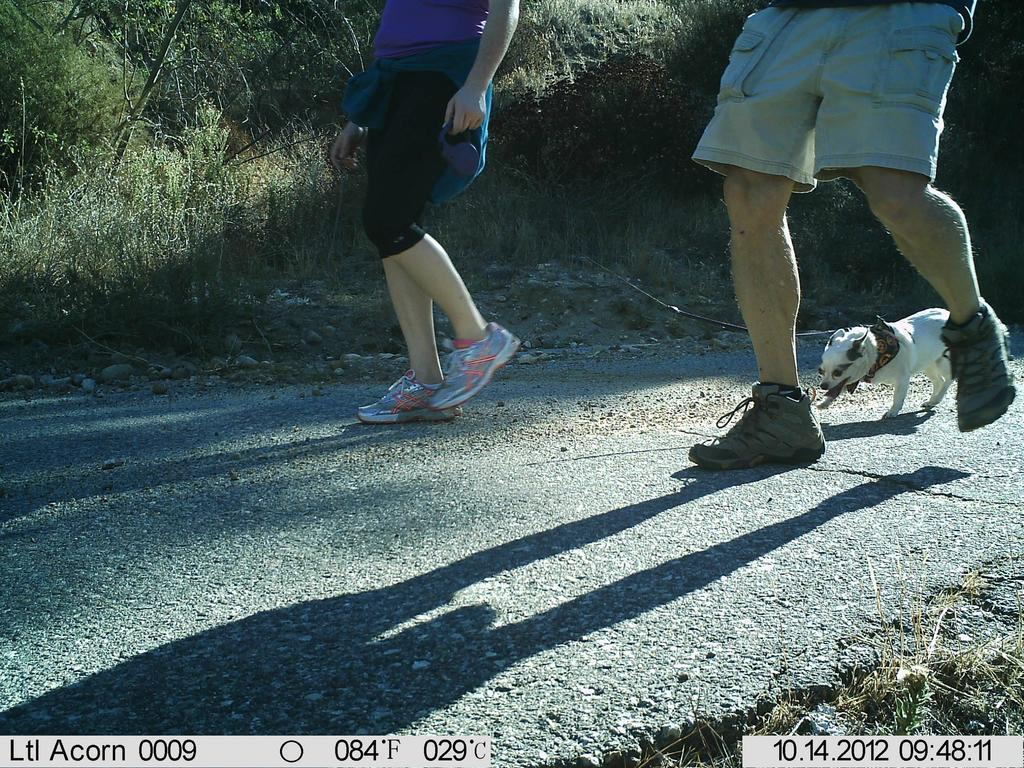dog: (813, 292, 993, 421)
